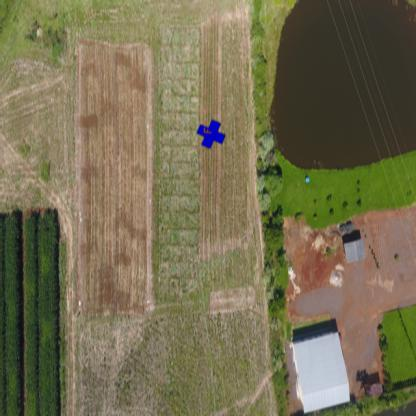F: (202, 126, 213, 135)
plus: (197, 119, 226, 149)
